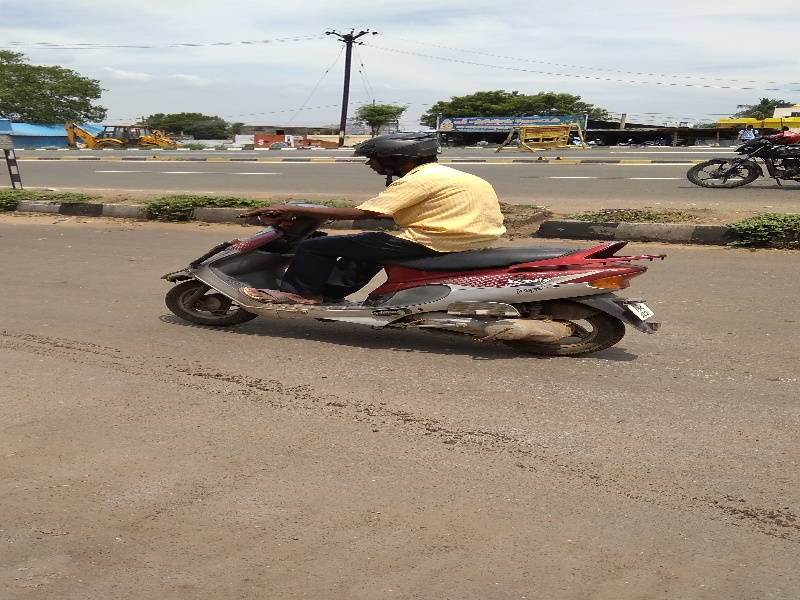biker: (141, 76, 696, 377)
helmet: (344, 121, 455, 188)
